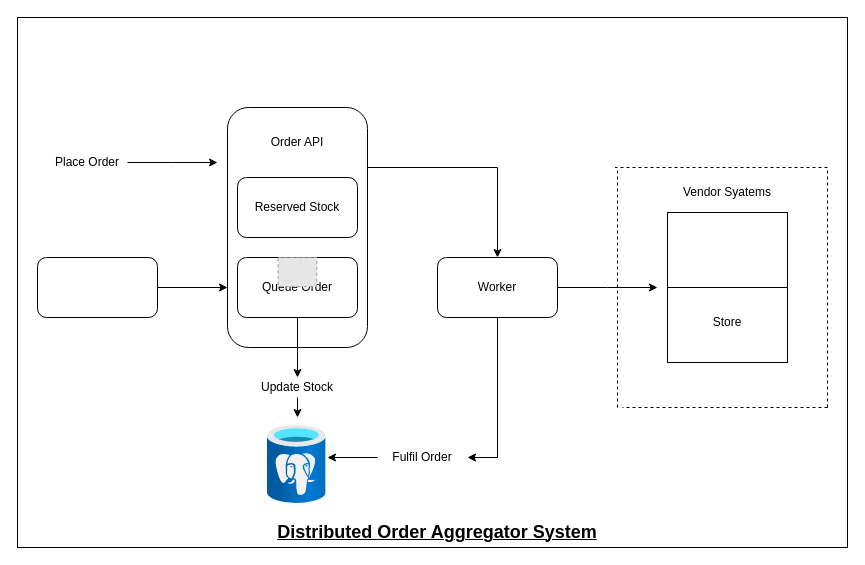
This 865x565 diagram has some shape labels left out. Grey dashed boxes stand in for pictures. Each missing label, with the centre of its shape:
Client: (97,287)
Warehouse: (727,250)
